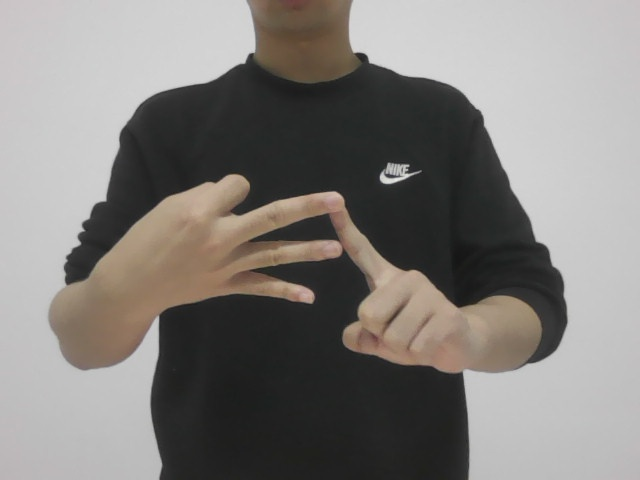name: (144, 176, 477, 397)
